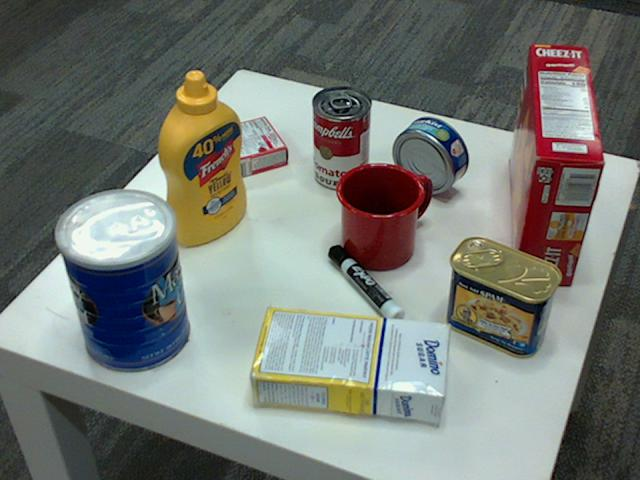cracker_box: (508, 42, 604, 283)
gelatin_box: (199, 113, 289, 179)
large_marker: (328, 246, 404, 329)
master_chef_can: (52, 190, 188, 373)
mug: (333, 160, 427, 268)
mustard_bottle: (156, 70, 246, 245)
potted_meat_can: (443, 236, 561, 357)
sugar_box: (243, 304, 447, 421)
tomato_soup_can: (311, 86, 371, 190)
tuna_fish_can: (391, 116, 467, 193)
